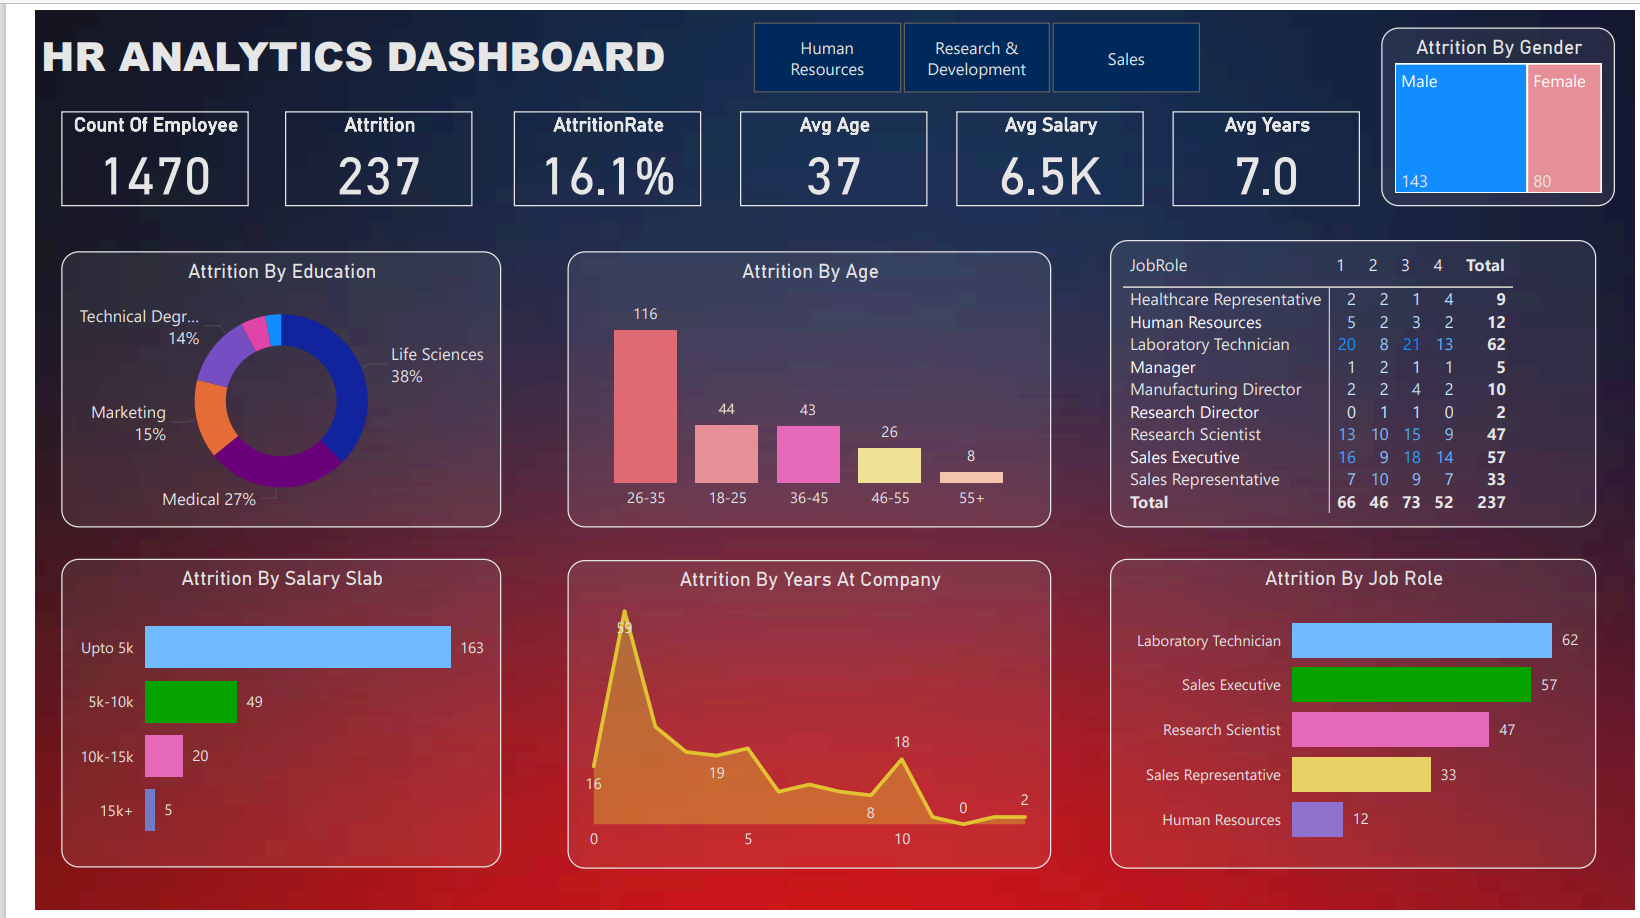

Layout of this report page (visuals, bound fields, positions):
{"tool":"powerbi","page":{"name":"Page 1","canvas":[1280,720],"ordinal":0},"visuals":[{"type":"card","title":"Count Of Employee","fields":{"Values":["CountNonNull(HR_Analytics.EmpID)"]},"box":[22,81,166,76.8],"z":0},{"type":"card","title":"Avg Age","fields":{"Values":["Avg(HR_Analytics.Age)"]},"box":[564.3,81.4,150,75.7],"z":1000},{"type":"card","title":"AttritionRate","fields":{"Values":["HR_Analytics.AttritionRate"]},"box":[382.9,81.4,150,75.7],"z":2000},{"type":"card","title":"Attrition","fields":{"Values":["Sum(HR_Analytics.AttritionCount)"]},"box":[200,81.4,150,75.7],"z":3000},{"type":"card","title":"Avg Years","fields":{"Values":["Avg(HR_Analytics.YearsAtCompany)"]},"box":[910,81.4,150,75.7],"z":4000},{"type":"card","title":"Avg Salary","fields":{"Values":["Avg(HR_Analytics.MonthlyIncome)"]},"box":[736.9,79.6,150.9,76.8],"z":5000},{"type":"donutChart","title":"Attrition By Education","fields":{"Category":["HR_Analytics.EducationField"],"Y":["Sum(HR_Analytics.AttritionCount)"]},"box":[21.4,192.9,351.4,221.4],"z":6000},{"type":"columnChart","title":"Attrition By Age","fields":{"Category":["HR_Analytics.AgeGroup"],"Y":["Sum(HR_Analytics.AttritionCount)"]},"box":[425.7,192.9,387.1,221.4],"z":7000},{"type":"pivotTable","fields":{"Rows":["HR_Analytics.JobRole"],"Columns":["HR_Analytics.JobSatisfaction"],"Values":["Sum(HR_Analytics.AttritionCount)"]},"box":[860,184.3,388.6,230],"z":8000},{"type":"barChart","title":"Attrition By Salary Slab","fields":{"Category":["HR_Analytics.SalarySlab"],"Y":["Sum(HR_Analytics.AttritionCount)"]},"box":[21.4,438.6,351.4,247.1],"z":9000},{"type":"barChart","title":"Attrition By Job Role","fields":{"Category":["HR_Analytics.JobRole"],"Y":["Sum(HR_Analytics.AttritionCount)"]},"box":[860,438.6,388.6,248.6],"z":10000},{"type":"areaChart","title":"Attrition By Years At Company","fields":{"Category":["HR_Analytics.YearsAtCompany"],"Y":["Sum(HR_Analytics.AttritionCount)"]},"box":[425.7,440,387.1,247.1],"z":11000},{"type":"treemap","title":"Attrition By Gender","fields":{"Group":["HR_Analytics.Gender"],"Values":["Sum(HR_Analytics.AttritionCount)"]},"box":[1077.1,14.3,187.1,142.9],"z":12000},{"type":"slicer","fields":{"Values":["HR_Analytics.Department"]},"box":[548.6,2.9,407.1,70],"z":13000},{"type":"textbox","box":[0,8.6,521.4,58.6],"z":14000}]}

Visuals, with their boxes in screenshot pixels (x1, y1, x2, y2), scaled from the page's 1280x720 canvas onto the 1640x918 screenshot:
"Count Of Employee" card: (28,103,241,201)
"Avg Age" card: (723,104,915,200)
"AttritionRate" card: (491,104,683,200)
"Attrition" card: (256,104,448,200)
"Avg Years" card: (1166,104,1358,200)
"Avg Salary" card: (944,101,1137,199)
"Attrition By Education" donutChart: (27,246,478,528)
"Attrition By Age" columnChart: (545,246,1041,528)
pivotTable - HR_Analytics.JobRole x HR_Analytics.JobSatisfaction: (1102,235,1600,528)
"Attrition By Salary Slab" barChart: (27,559,478,874)
"Attrition By Job Role" barChart: (1102,559,1600,876)
"Attrition By Years At Company" areaChart: (545,561,1041,876)
"Attrition By Gender" treemap: (1380,18,1620,200)
slicer - HR_Analytics.Department: (703,4,1224,93)
textbox: (0,11,668,86)
